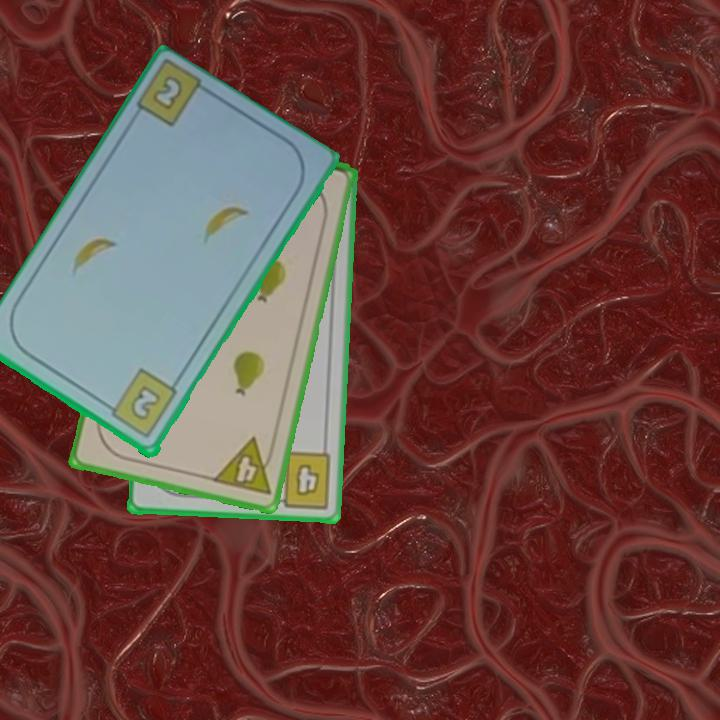2b: (101, 366, 180, 442), (152, 75, 183, 110)
4b: (268, 448, 335, 511)
4p: (209, 434, 279, 499)
